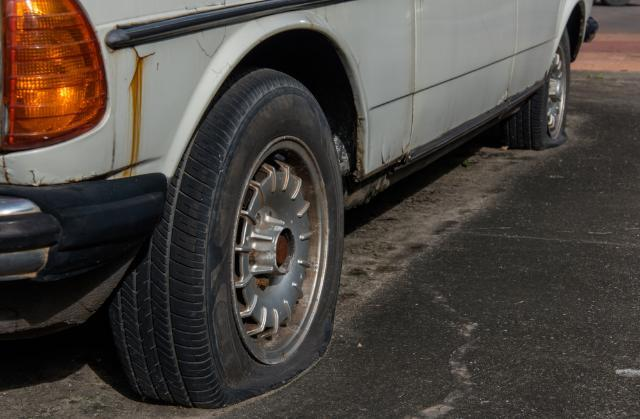Fender: (96, 27, 183, 184)
